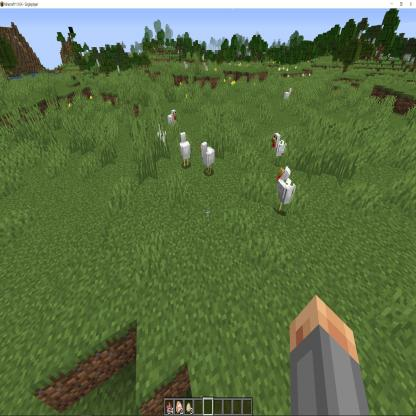minecraft-pigs: (277, 161, 297, 220), (176, 130, 193, 168), (200, 138, 216, 177), (270, 128, 287, 160), (156, 121, 169, 156), (167, 109, 178, 131), (284, 86, 292, 107), (182, 62, 190, 73), (203, 62, 209, 76)
